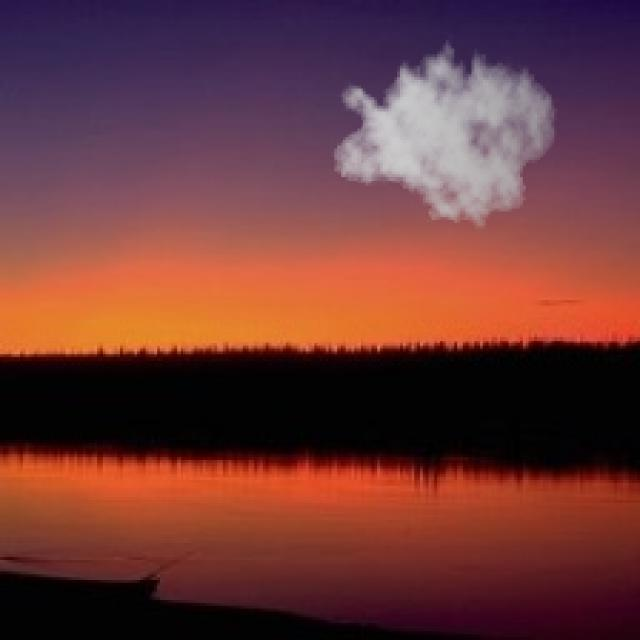smoke: (332, 32, 557, 235)
